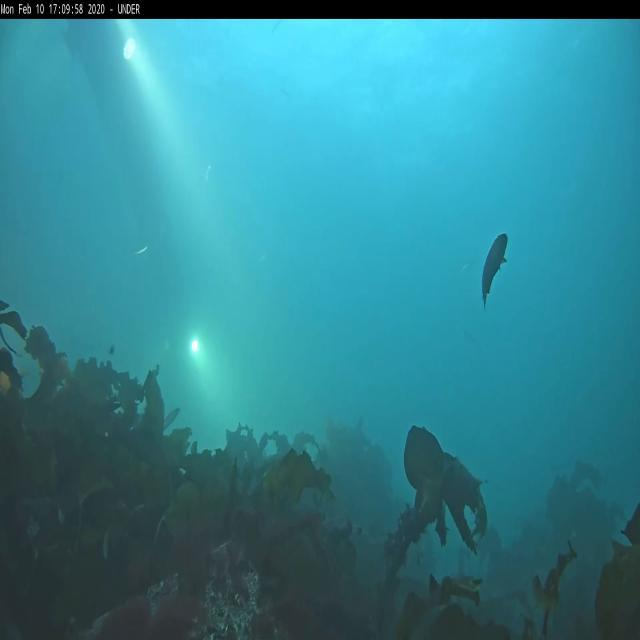fish: (480, 232, 508, 310)
